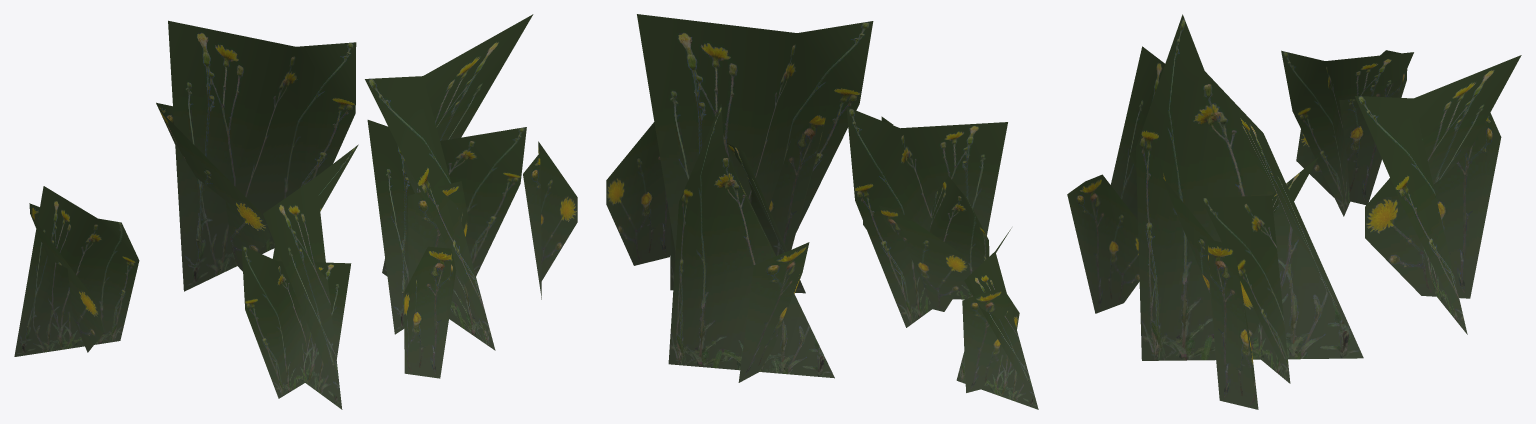
File: prop_dandy_b.FBX
3 renders of one model, left to right at view 1: azimuth 30°, elevation 25°; view 2: azimuth 150°, elevation 25°; view 3: azimuth 270°, elevation 25°, orthographic. The views are drawn at different scales.
Parts seen in each view (by area): view 1: prop_dandy_b; view 2: prop_dandy_b; view 3: prop_dandy_b.
Boxes of the visible parts, bbox=[...] form: prop_dandy_b: bbox=[14, 14, 577, 409]; prop_dandy_b: bbox=[606, 14, 1038, 409]; prop_dandy_b: bbox=[1067, 14, 1521, 409].
Size of the model in its own units: 2.24 by 1.69 by 1.2.
Materials: 1 (1 with a texture image).
